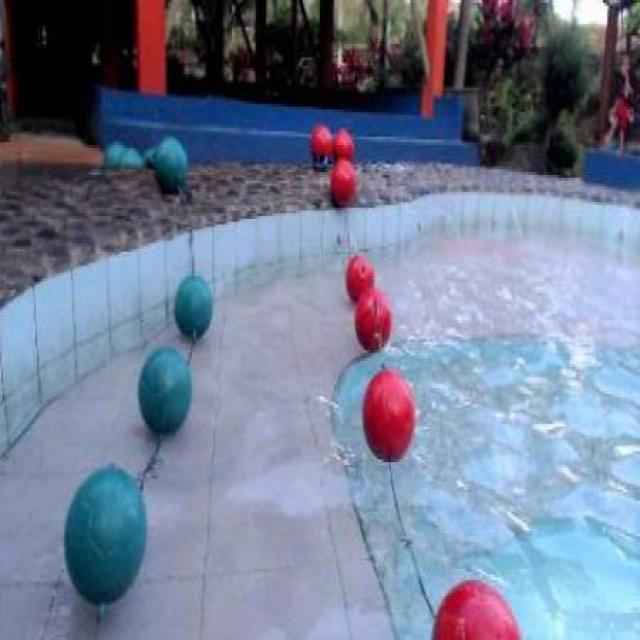buoy: (62, 462, 147, 604), (430, 577, 520, 638), (362, 367, 415, 459), (136, 344, 190, 432), (172, 271, 212, 336), (353, 284, 392, 350), (154, 134, 188, 195), (344, 249, 376, 299), (331, 155, 356, 201), (310, 124, 330, 160), (334, 127, 354, 163)
